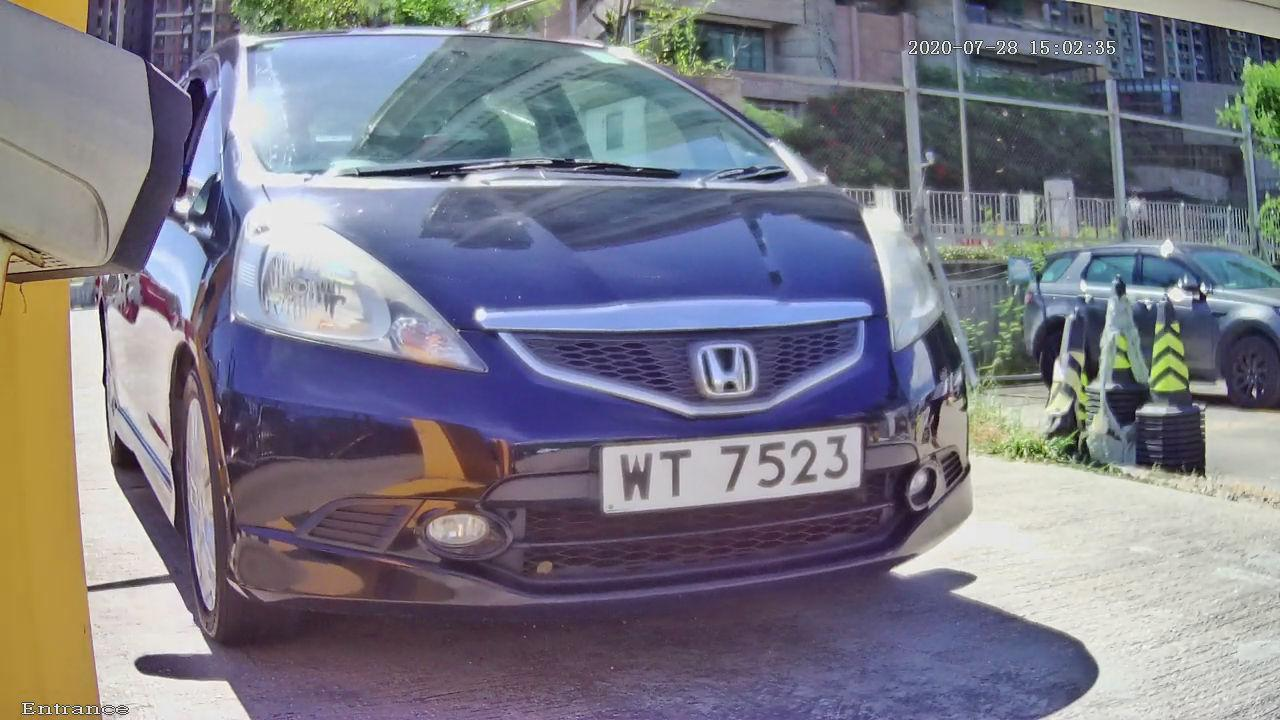privatecar: (52, 46, 1098, 676)
